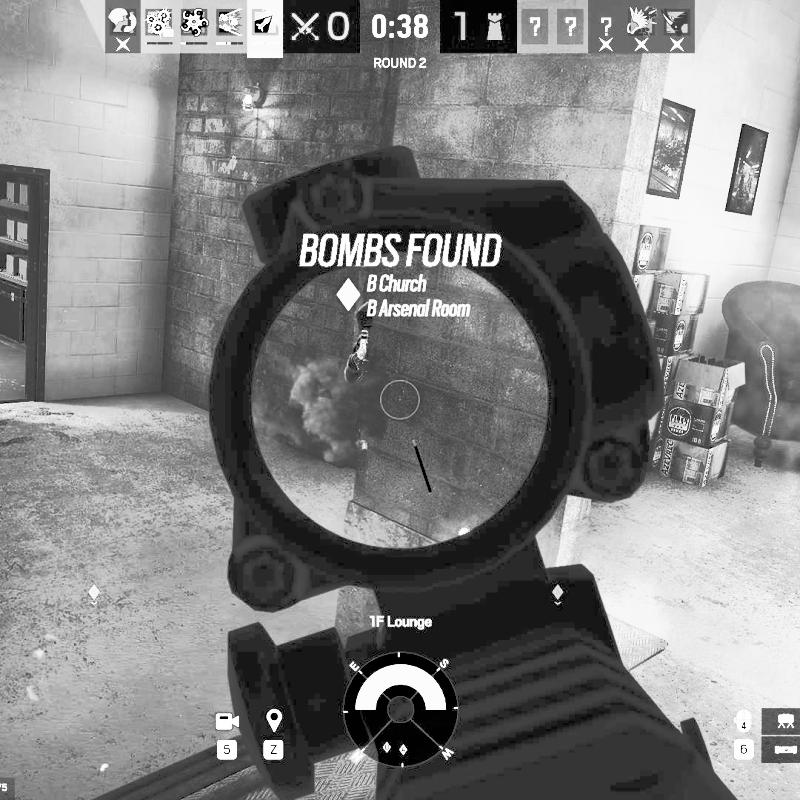Character: (342, 298, 377, 385)
Head: (355, 300, 375, 338)
